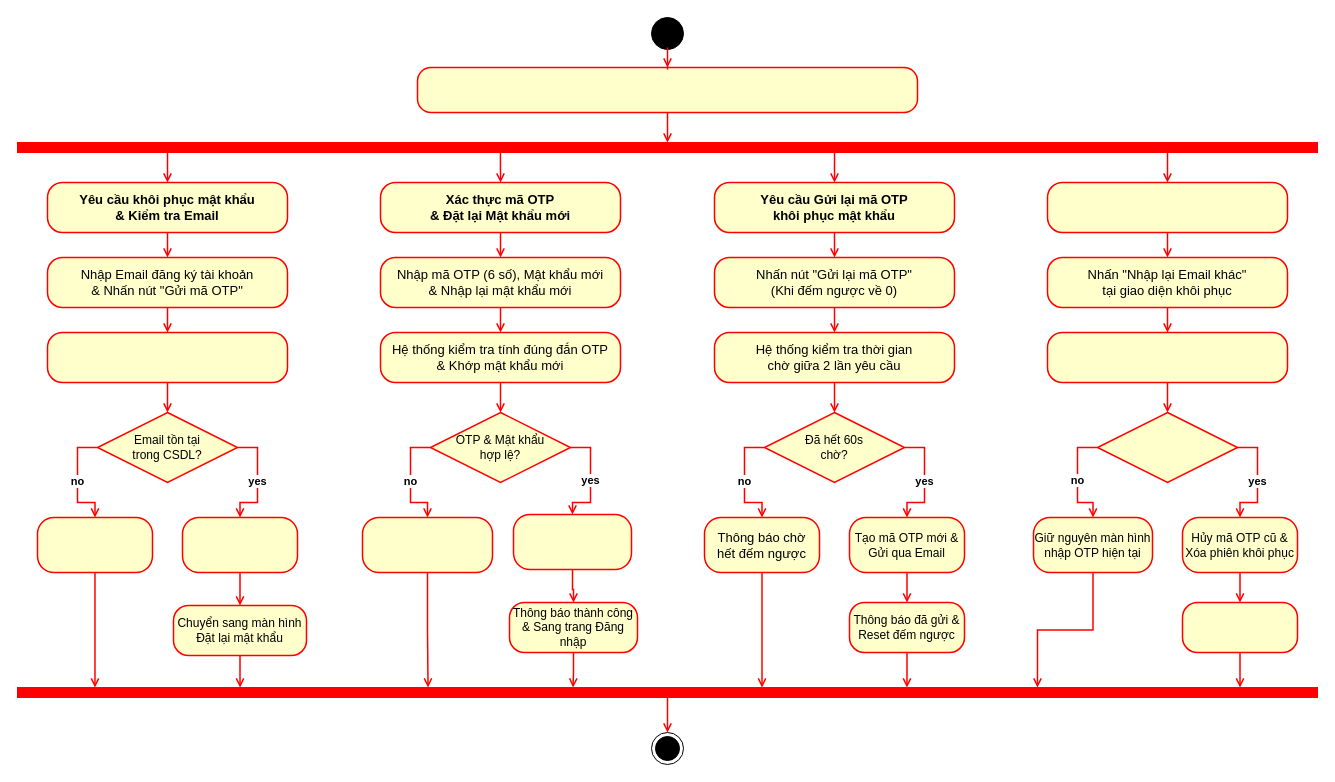
This 1335x782 diagram has some shape labels left out. The shapes that lost their labels are listed below. From the top down, each one's centre as x and y in pixels, then its label:
(x=667, y=89): Khách (Guest) chọn chức năng Quên & Khôi phục mật khẩu
(x=1167, y=207): Chọn chức năng Sửa Email khôi phục
(x=167, y=357): Hệ thống kiểm tra định dạng Email & Đối soát sự tồn tại trong CSDL
(x=1167, y=357): Hệ thống yêu cầu xác nhận hủy phiên khôi phục hiện tại
(x=1167, y=447): Xác nhận hủy?
(x=94, y=544): Thông báo lỗi (Email chưa đăng ký)
(x=239, y=544): Khởi tạo mã OTP khôi phục & Gửi về Email
(x=427, y=544): Thông báo lỗi (Mã OTP sai / Mật khẩu lệch)
(x=572, y=541): Mã hóa & Cập nhật Mật khẩu mới vào CSDL
(x=1239, y=627): Chuyển về Form Quên mật khẩu ban đầu
